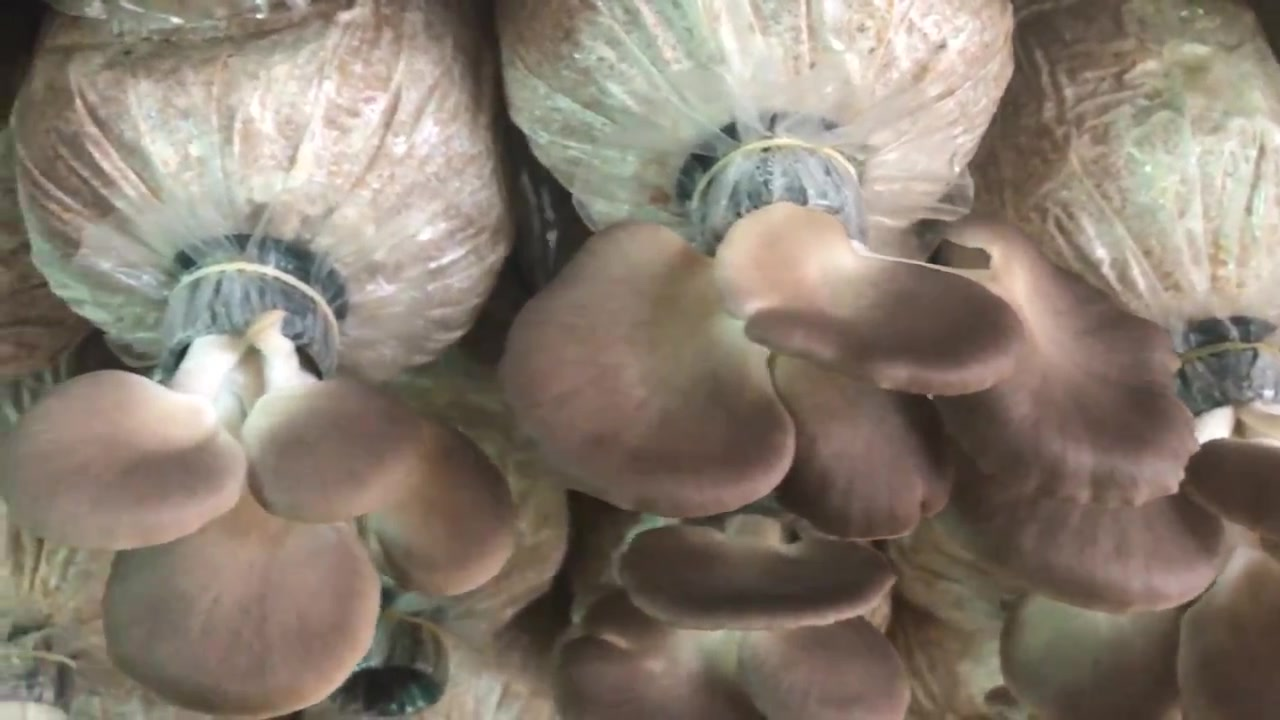nam: (505, 137, 1189, 631), (5, 263, 512, 719), (933, 327, 1280, 718), (559, 591, 910, 720)
